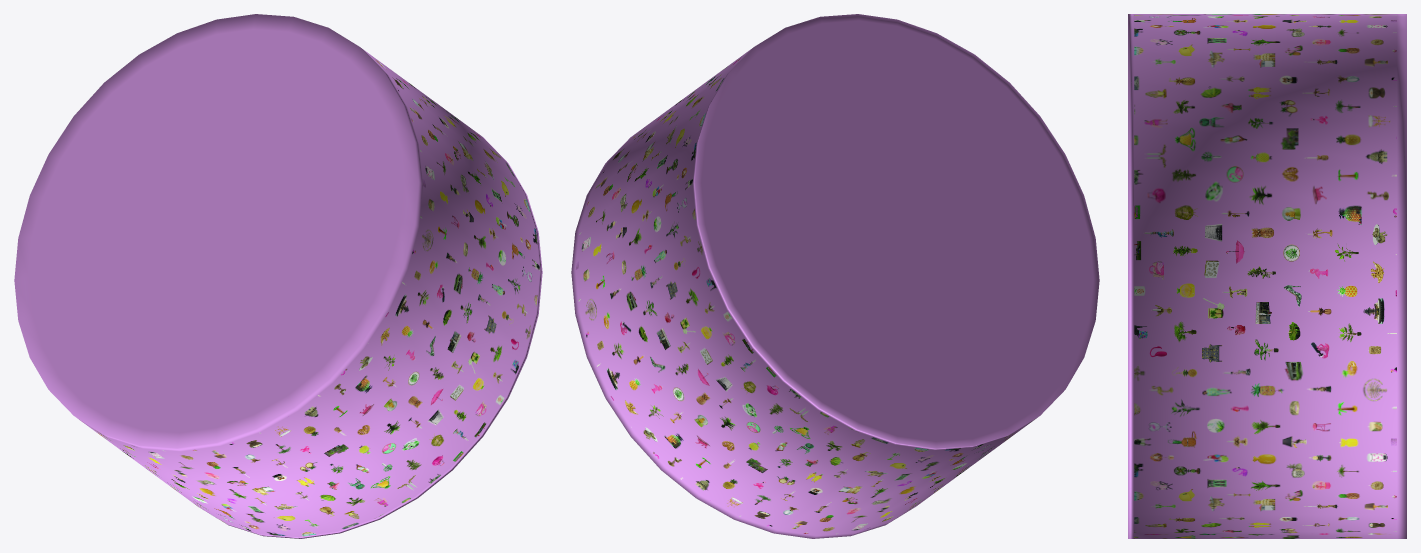
The model's file is paradisepractice_chamber_v2.glb.
3 renders of one model, left to right at view 1: azimuth 30°, elevation 25°; view 2: azimuth 150°, elevation 25°; view 3: azimuth 270°, elevation 25°, orthographic. The views are drawn at different scales.
Parts seen in each view (by area): view 1: walls; view 2: walls; view 3: walls.
Boxes of the visible parts, x1=… form: walls: x1=14, y1=14, x2=542, y2=538; walls: x1=571, y1=14, x2=1099, y2=538; walls: x1=1128, y1=14, x2=1406, y2=538.
Bounding box in the file's own units: 12.98 × 12.98 × 6.89.
Materials: 1 (1 with a texture image).
